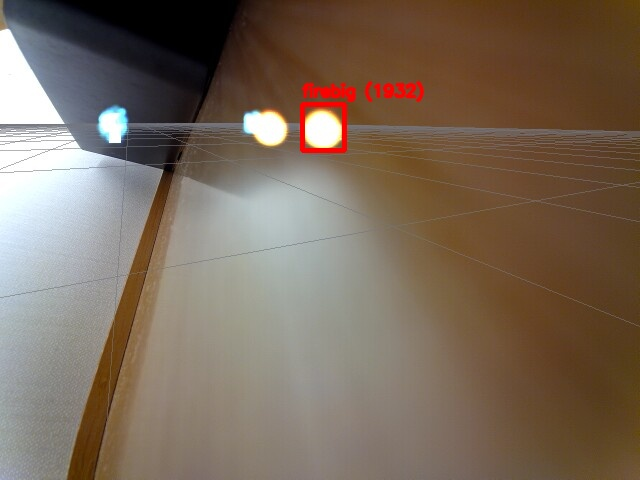firebig: (302, 104, 344, 150)
